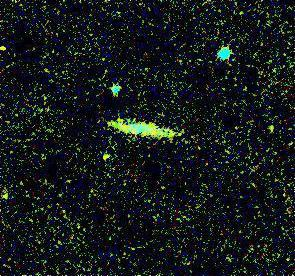star: (95, 147, 125, 177)
